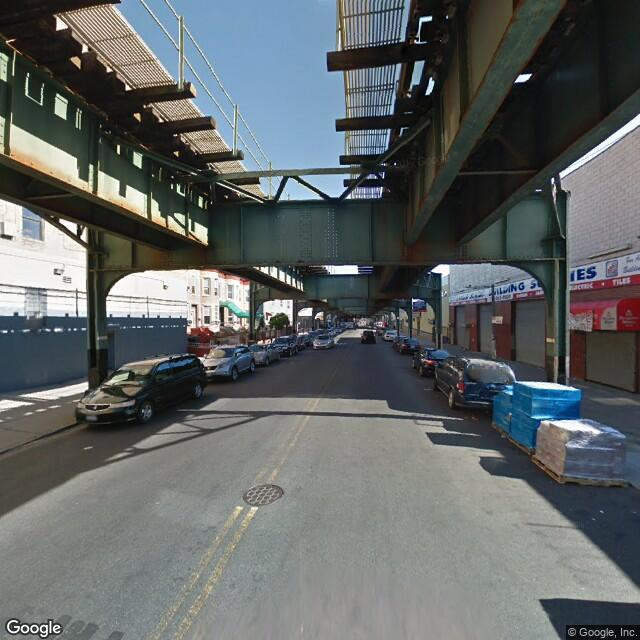litter: (82, 442, 93, 451), (597, 506, 606, 515), (424, 385, 435, 391), (589, 515, 597, 521)
